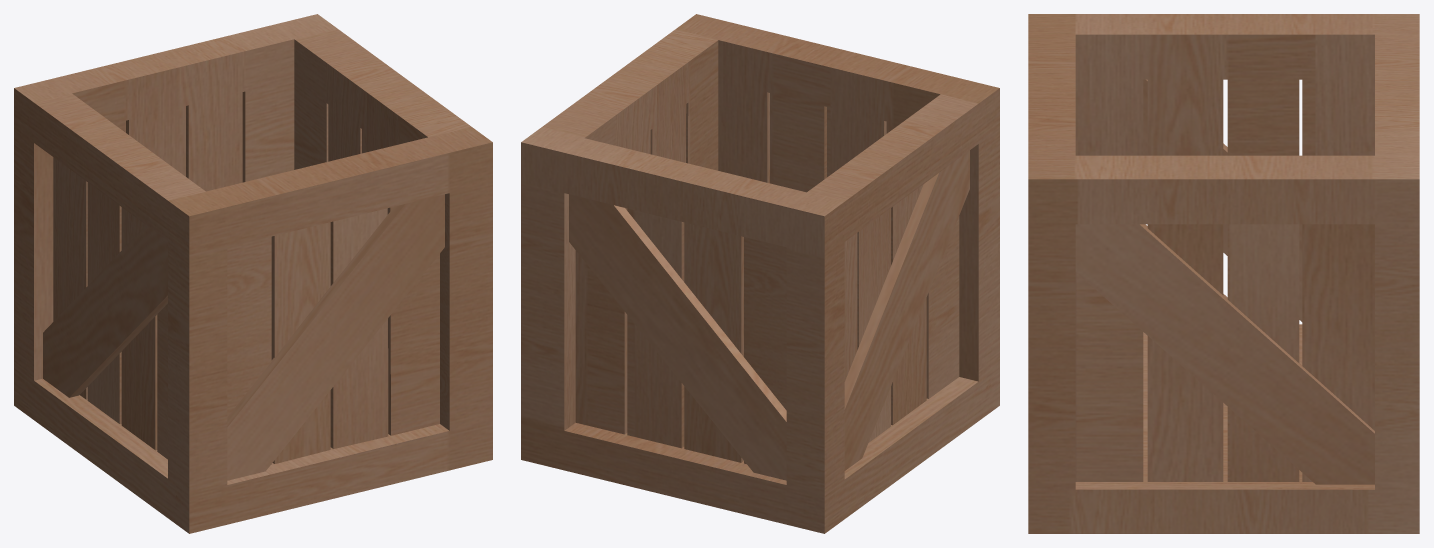
File: crate.fbx
3 renders of one model, left to right at view 1: azimuth 30°, elevation 25°; view 2: azimuth 150°, elevation 25°; view 3: azimuth 270°, elevation 25°, orthographic. The views are drawn at different scales.
Visible parts, largest first — view 1: crate; view 2: crate; view 3: crate.
Part boxes in pixels (left/top/right/bottom): crate: left=14, top=14, right=492, bottom=533; crate: left=521, top=14, right=999, bottom=533; crate: left=1028, top=14, right=1419, bottom=533.
Size of the model in its own units: 0.1859 by 0.1859 by 0.1859.
